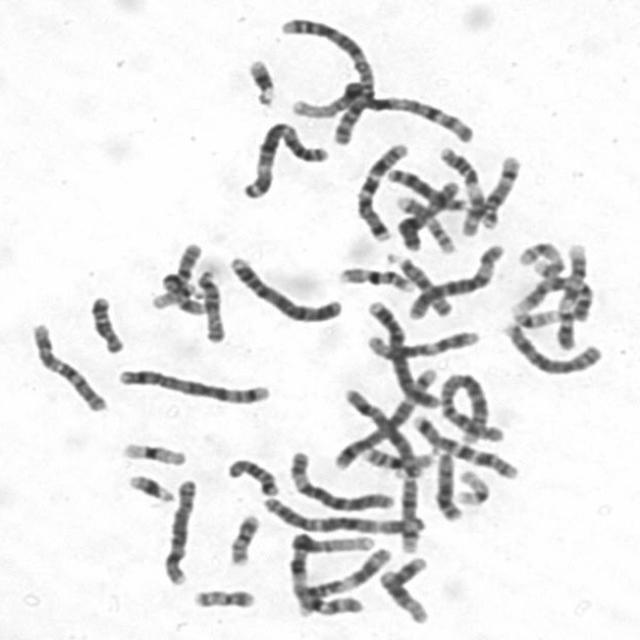A1: (284, 80, 478, 145), (281, 530, 379, 615)
A2: (273, 8, 379, 146), (434, 367, 505, 445)
A3: (255, 488, 423, 537), (236, 114, 330, 200)
B4: (361, 293, 441, 410), (222, 249, 345, 325)
B5: (327, 362, 440, 472), (111, 361, 272, 406)
C10: (24, 316, 110, 414), (146, 237, 206, 312)
C11: (286, 539, 394, 616), (432, 139, 488, 236)
C12: (374, 554, 440, 624), (361, 323, 482, 361)
C6: (402, 236, 508, 321), (282, 442, 398, 512)
C7: (406, 408, 522, 481), (348, 135, 411, 243)
C8: (496, 316, 606, 378), (156, 471, 200, 587)
C9: (548, 237, 591, 353), (508, 271, 595, 323)
D13: (381, 162, 471, 213), (428, 442, 465, 522)
D14: (387, 463, 430, 562), (475, 149, 524, 230)
D15: (383, 247, 456, 318), (191, 262, 227, 344)
E16: (331, 260, 416, 294), (355, 440, 436, 475)
E17: (389, 189, 459, 255), (512, 236, 568, 279)
E18: (82, 288, 126, 355), (219, 451, 281, 497)
F19: (114, 435, 189, 467), (450, 463, 492, 507)
F20: (222, 508, 262, 566), (185, 582, 258, 611)
G21: (120, 467, 176, 505), (240, 51, 278, 107)
G22: (146, 275, 200, 310), (506, 301, 564, 329)
X: (336, 381, 425, 498)
